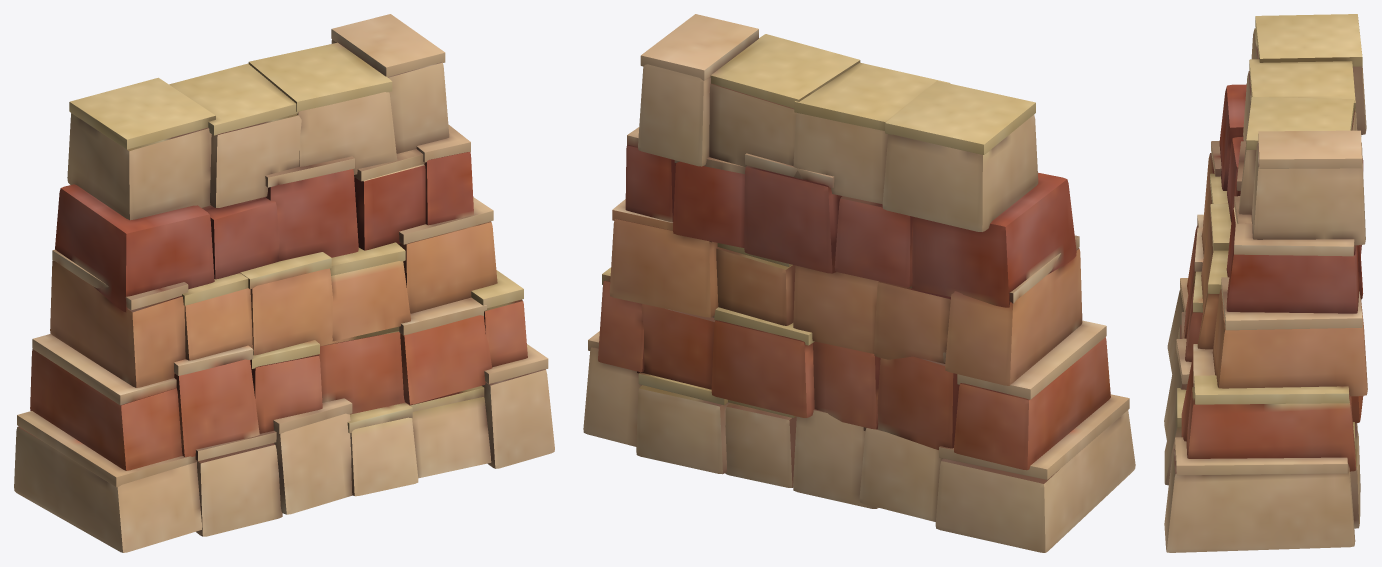
The model's file is Desert_Mesa.fbx.
3 views of the same model, side by side, from view 1: azimuth 30°, elevation 25°; view 2: azimuth 150°, elevation 25°; view 3: azimuth 270°, elevation 25° (orthographic). The views are drawn at different scales.
Parts seen in each view (by area): view 1: Desert_Mesa; view 2: Desert_Mesa; view 3: Desert_Mesa.
Boxes of the visible parts, x1,y1,x2,y2 form: Desert_Mesa: (14,14,554,552); Desert_Mesa: (583,14,1135,552); Desert_Mesa: (1164,14,1367,552).
Bounding box in the file's own units: 3628 × 2989 × 1499.
1 material, 1 textured.
